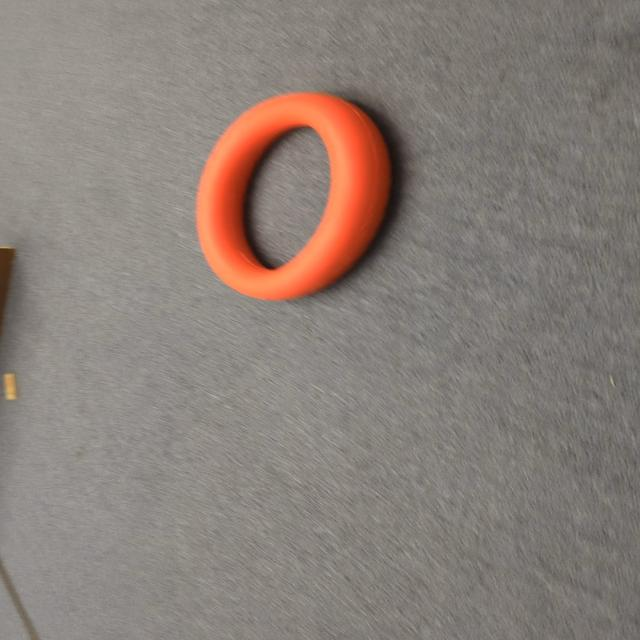note: (196, 89, 395, 293)
